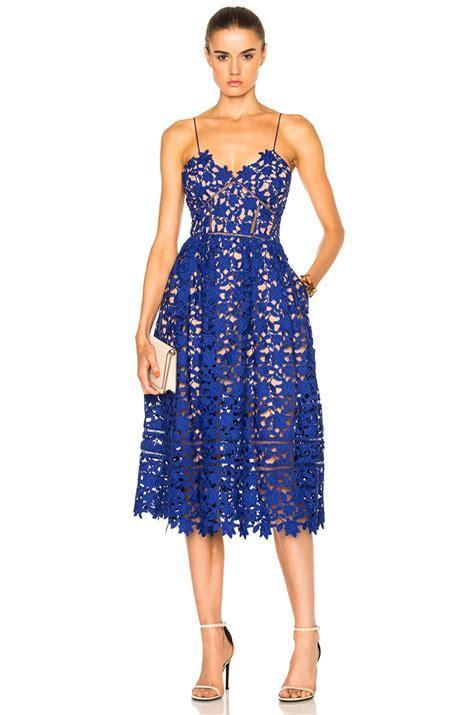dress: (135, 111, 324, 539)
